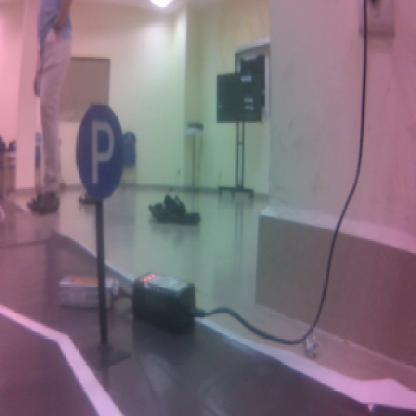chair: (77, 104, 122, 197)
